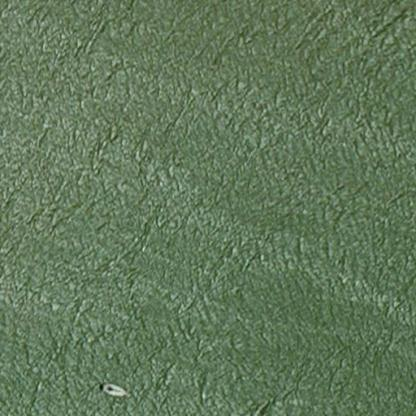ship: (89, 375, 139, 404)
